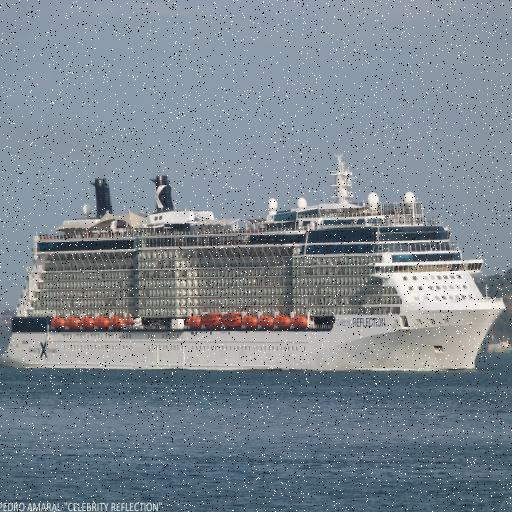cruises: (1, 152, 509, 380)
